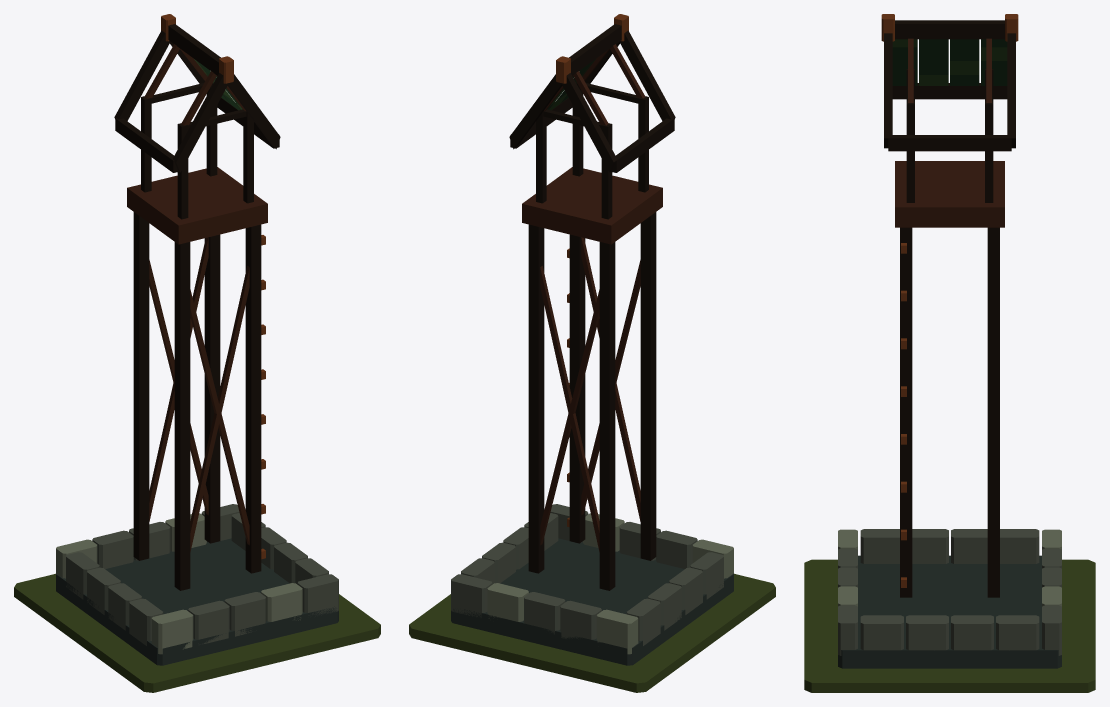
The model's file is tower_t4.glb.
The picture shows the model from 3 angles, left to right: view 1: azimuth 30°, elevation 25°; view 2: azimuth 150°, elevation 25°; view 3: azimuth 270°, elevation 25°; orthographic projection. The views are drawn at different scales.
Visible parts, largest first — view 1: MMR | tower | T04 Architecture.001, MMR | tower | Tier 04 Ground.001, MMR | tower | T04 Roof Supports.001; view 2: MMR | tower | T04 Architecture.001, MMR | tower | Tier 04 Ground.001, MMR | tower | T04 Roof Supports.001; view 3: MMR | tower | T04 Architecture.001, MMR | tower | Tier 04 Ground.001, MMR | tower | T04 Roof Supports.001.
Boxes of the visible parts, x1,y1,x2,y2 form: MMR | tower | T04 Architecture.001: [56, 14, 338, 665]; MMR | tower | Tier 04 Ground.001: [14, 573, 380, 692]; MMR | tower | T04 Roof Supports.001: [141, 44, 253, 219]; MMR | tower | T04 Architecture.001: [451, 14, 733, 665]; MMR | tower | Tier 04 Ground.001: [409, 573, 775, 692]; MMR | tower | T04 Roof Supports.001: [536, 44, 648, 219]; MMR | tower | T04 Architecture.001: [838, 14, 1061, 668]; MMR | tower | Tier 04 Ground.001: [804, 559, 1095, 692]; MMR | tower | T04 Roof Supports.001: [906, 38, 993, 202].
Bounding box in the file's own units: 1.3 × 3.02 × 1.3.
Materials: 1 (1 with a texture image).
